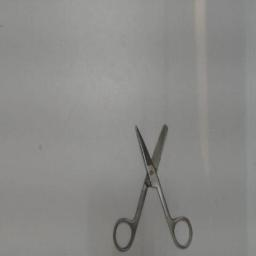Dressing Scissors: (108, 110, 198, 254)
